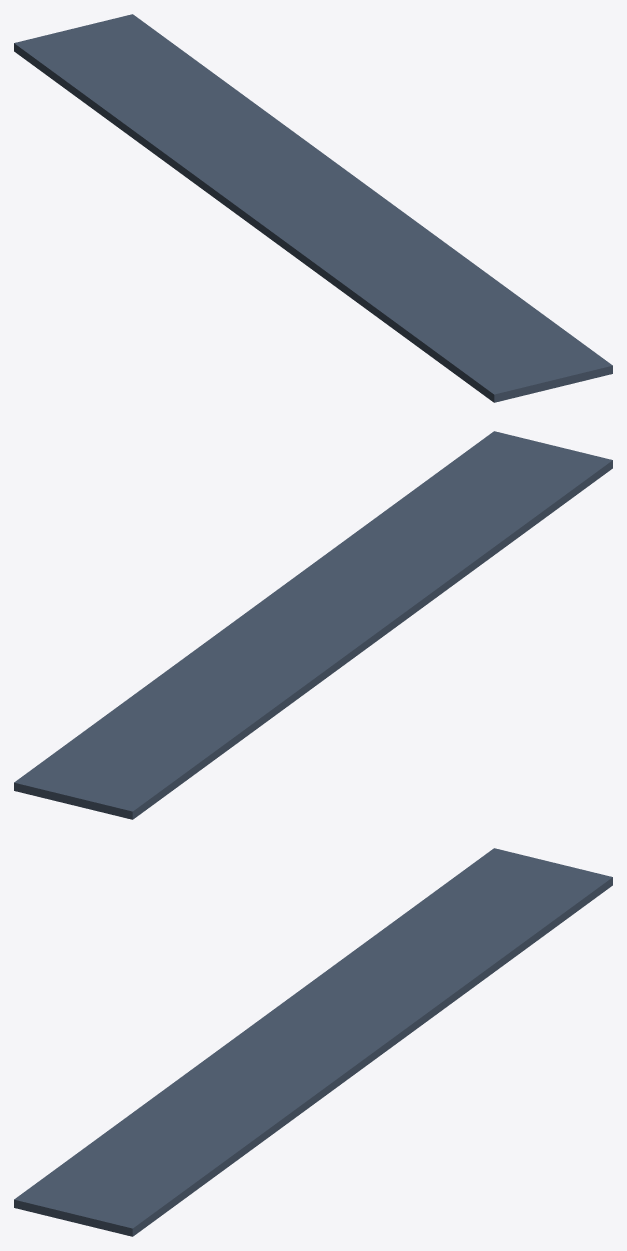
File: floor_010_f_1f79c6a541.obj
3 views of the same model, one above another, from view 1: azimuth 30°, elevation 25°; view 2: azimuth 150°, elevation 25°; view 3: azimuth 330°, elevation 25° (orthographic).
Parts seen in each view (by area): view 1: Floor_010_f_1f79c6a541; view 2: Floor_010_f_1f79c6a541; view 3: Floor_010_f_1f79c6a541.
Part boxes in pixels (x1,y1,x2,y2): Floor_010_f_1f79c6a541: [14, 14, 612, 402]; Floor_010_f_1f79c6a541: [14, 431, 612, 819]; Floor_010_f_1f79c6a541: [14, 848, 612, 1236].
Size of the model in its own units: 3 by 0.2 by 21.
